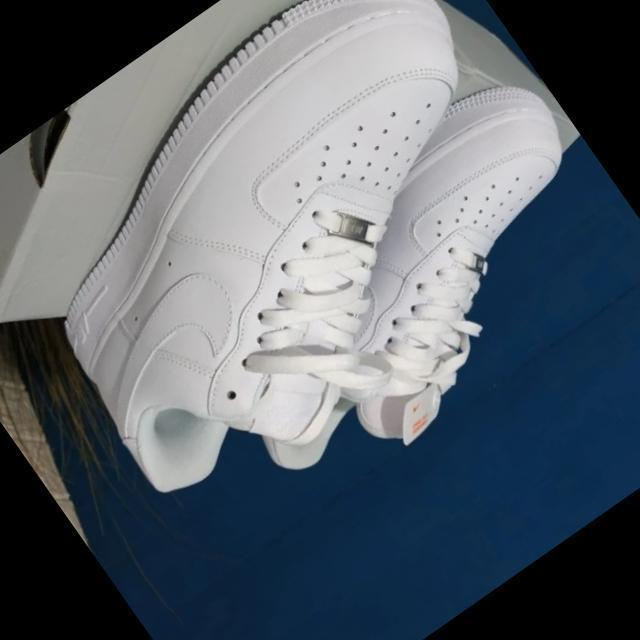nike original air force: (0, 0, 603, 531), (158, 57, 640, 516)
